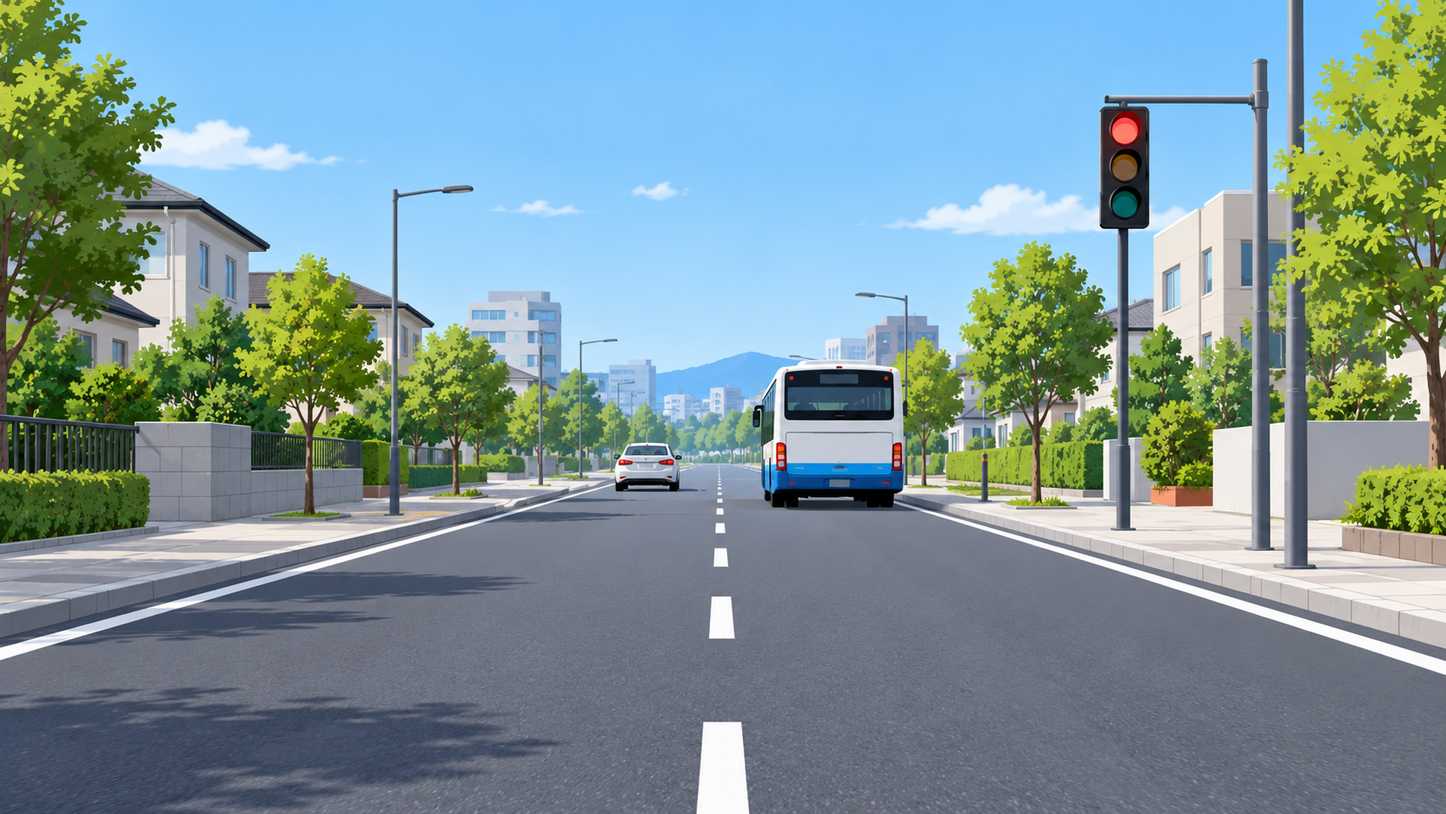bus: (765, 363, 895, 510)
car: (616, 381, 683, 439)
traffic_light: (1097, 109, 1157, 244)
